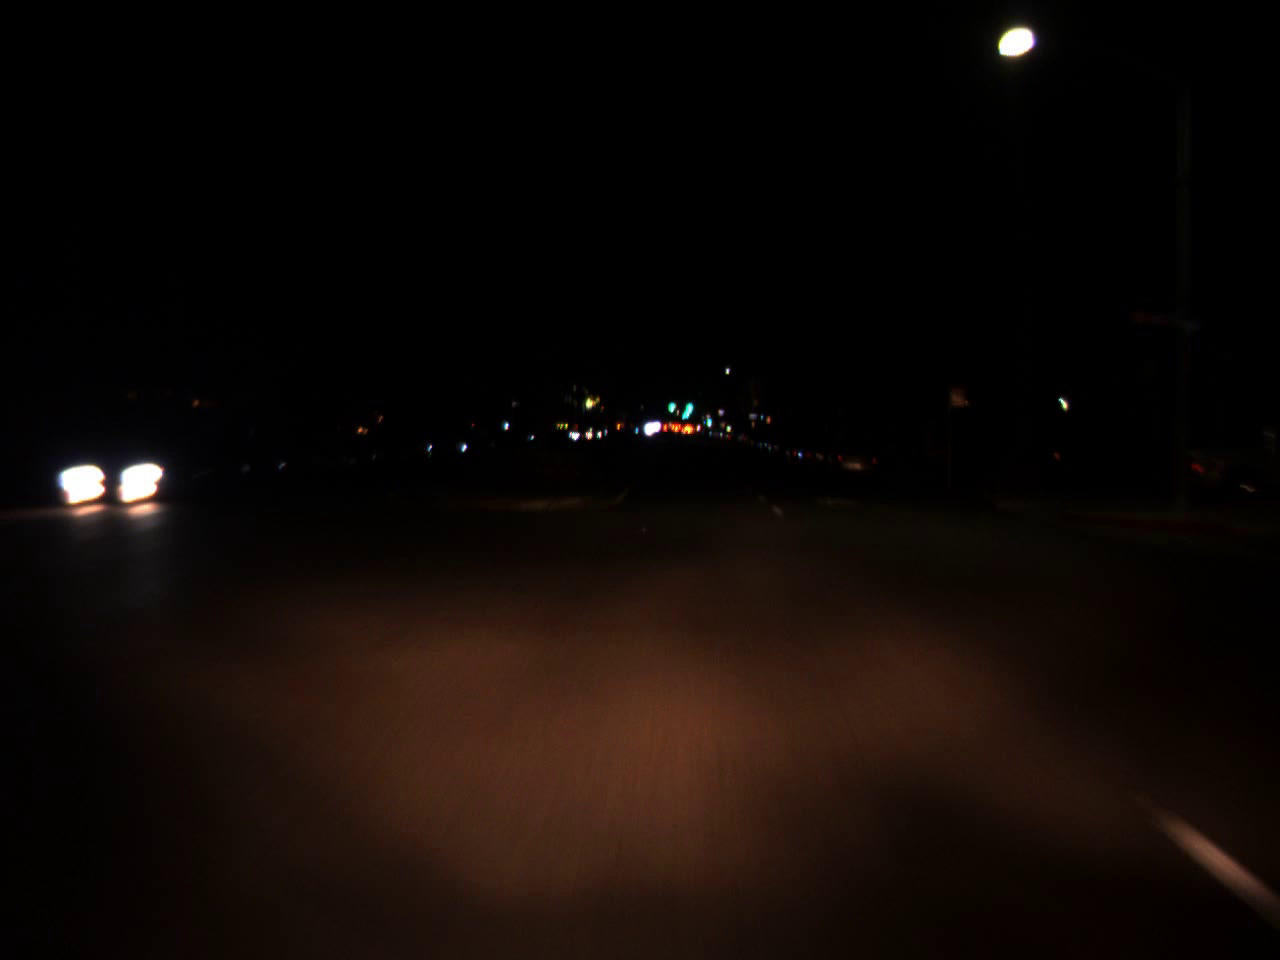go: (679, 390, 695, 417), (665, 392, 675, 413), (703, 407, 712, 428)
